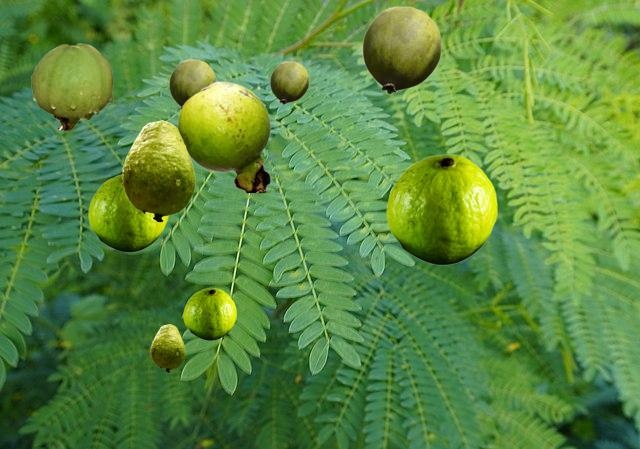guava: (386, 154, 496, 264), (177, 81, 270, 191), (121, 120, 194, 221), (31, 43, 112, 130), (362, 6, 441, 93), (88, 173, 167, 251), (183, 288, 235, 339), (169, 59, 215, 107), (150, 324, 184, 371), (270, 61, 308, 103)
